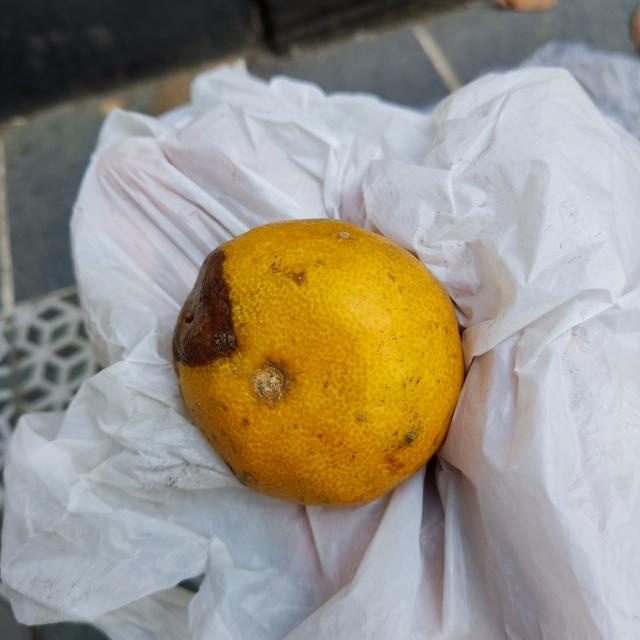agrume: (173, 220, 466, 508)
